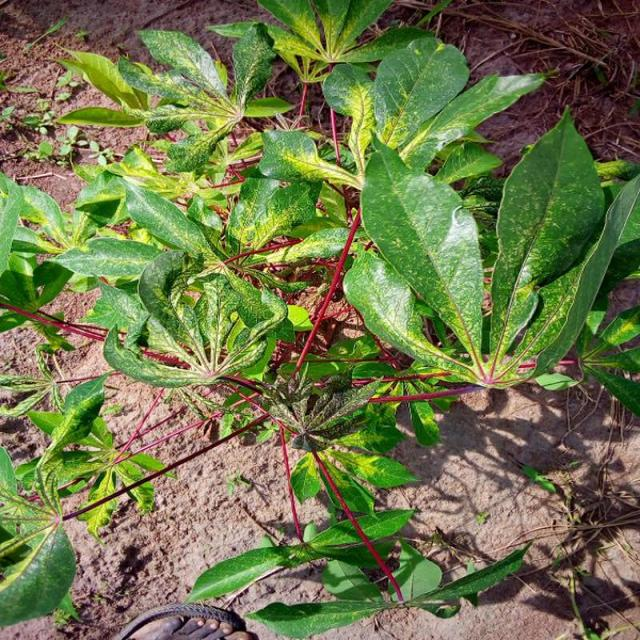cassava leaf: (0, 2, 638, 635), (488, 105, 606, 369), (358, 133, 484, 374)
